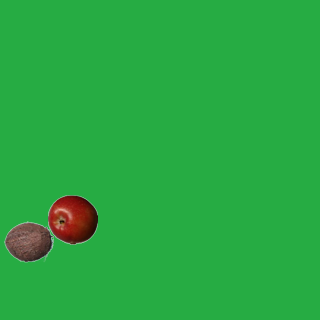Apple Braeburn: (47, 194, 97, 244)
Cocos: (3, 216, 53, 266)
